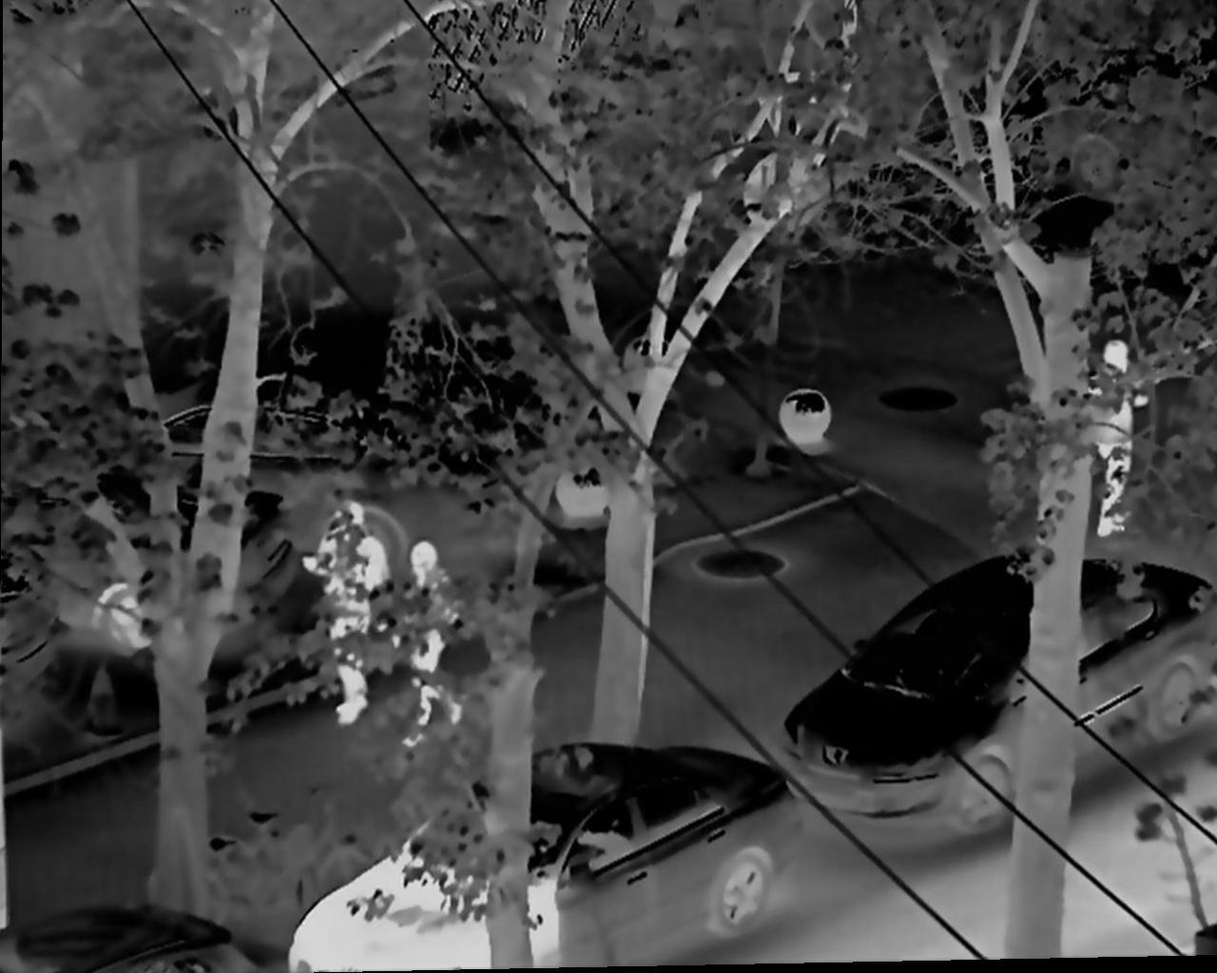person: (301, 499, 393, 728), (389, 541, 471, 739), (1086, 341, 1147, 533)
